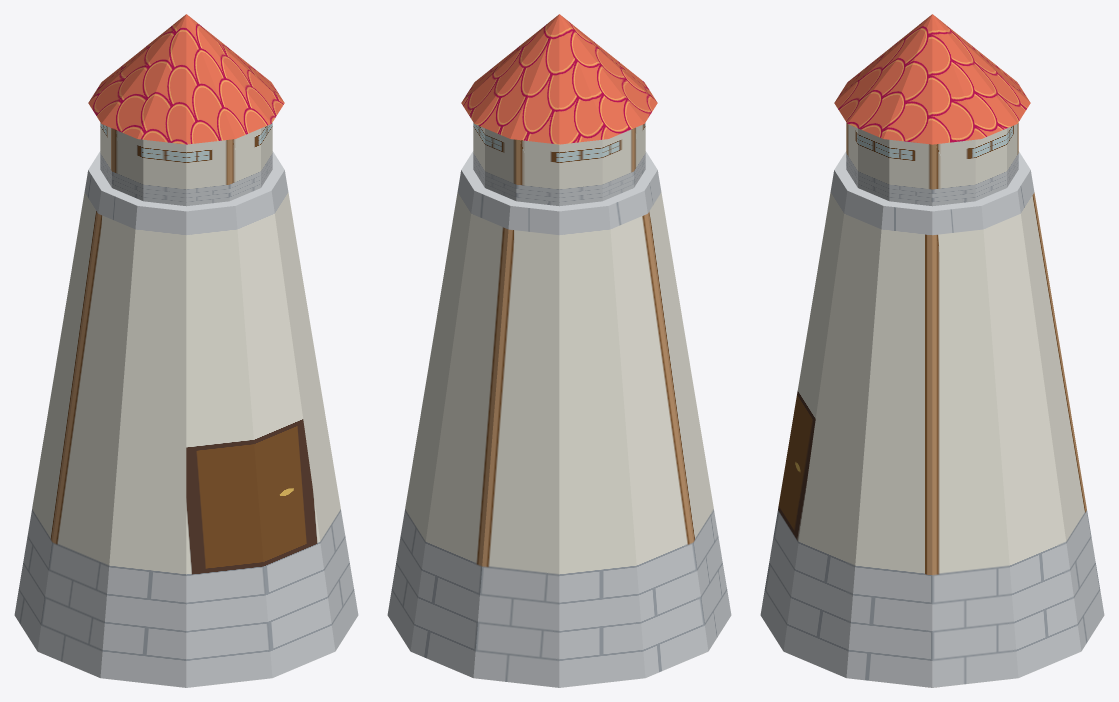
File: building_lighthouse.glb
3 views of the same model, side by side, from view 1: azimuth 30°, elevation 25°; view 2: azimuth 150°, elevation 25°; view 3: azimuth 270°, elevation 25° (orthographic).
Visible parts, largest first — view 1: building_lighthouse; view 2: building_lighthouse; view 3: building_lighthouse.
Part boxes in pixels (bbox=[...]): building_lighthouse: bbox=[14, 14, 358, 687]; building_lighthouse: bbox=[387, 14, 731, 687]; building_lighthouse: bbox=[760, 14, 1104, 687].
Bounding box in the file's own units: 2.8 × 5.4 × 2.8.
Materials: 2 (2 with a texture image).
